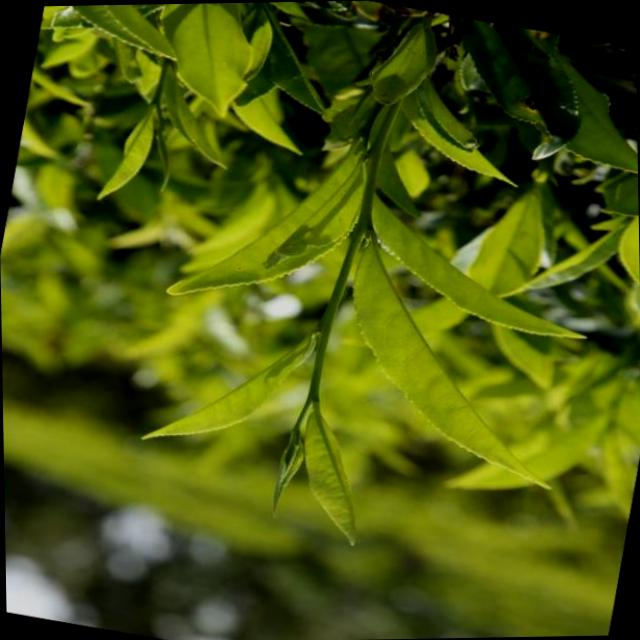Stem: (309, 382, 317, 393)
